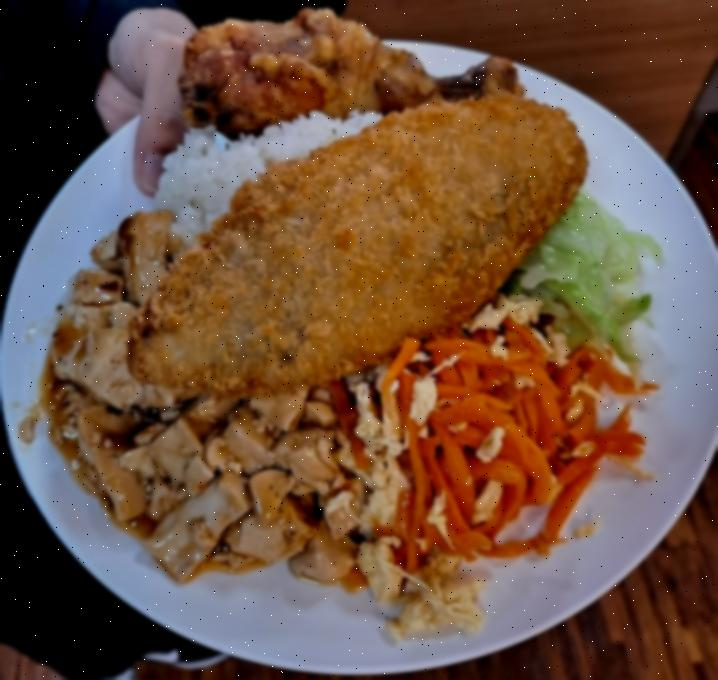big fried chicken leg: (0, 26, 718, 674)
big herbal chicken leg: (154, 111, 412, 264)
braised fish fillet: (48, 214, 354, 584), (349, 297, 650, 641), (509, 188, 654, 360)
braised pork: (126, 98, 594, 388), (176, 10, 520, 140)
